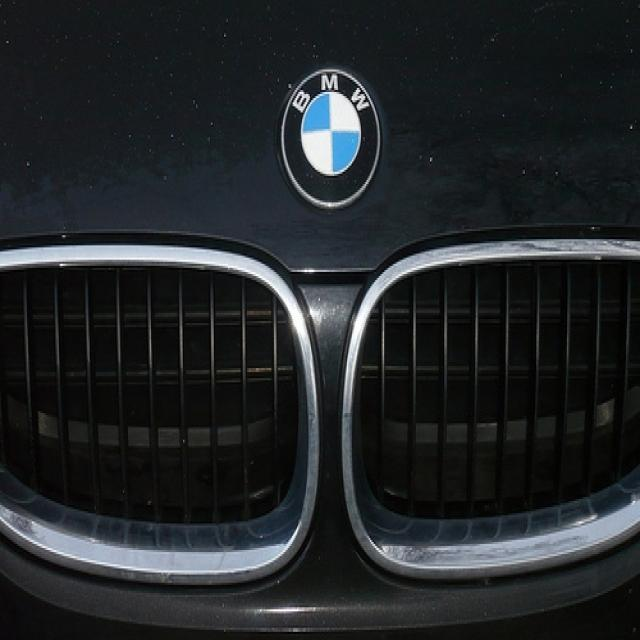bmw: (276, 62, 388, 212)
